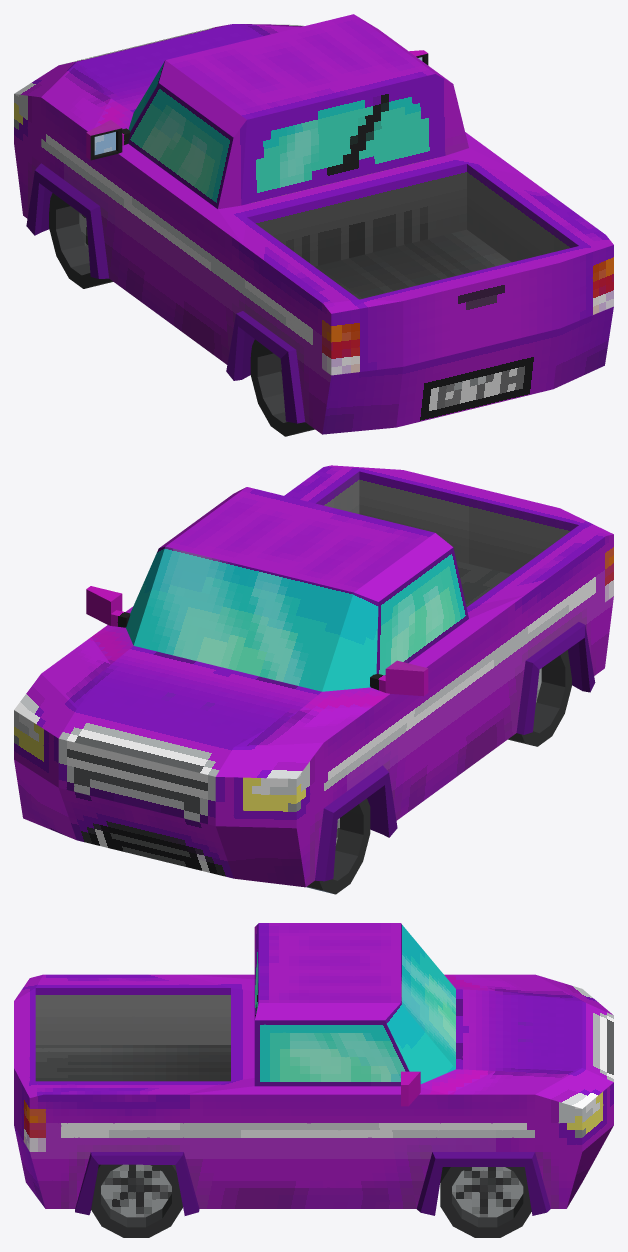
Rendered from truck_long.glb.
The picture shows the model from 3 angles, top to bottom: view 1: azimuth 30°, elevation 25°; view 2: azimuth 150°, elevation 25°; view 3: azimuth 270°, elevation 25°; orthographic projection. The views are drawn at different scales.
Parts seen in each view (by area): view 1: bodyframe, circle (×2), mirror_left; view 2: bodyframe, circle (×2), mirror_left, mirror_right; view 3: bodyframe, circle (×2), mirror_right.
Part boxes in pixels (bbox=[...]): bodyframe: bbox=[14, 14, 613, 434]; circle (×2): bbox=[49, 193, 314, 436]; mirror_left: bbox=[86, 120, 130, 160]; bodyframe: bbox=[14, 465, 613, 887]; circle (×2): bbox=[306, 650, 571, 894]; mirror_left: bbox=[370, 660, 428, 696]; mirror_right: bbox=[86, 586, 130, 627]; bodyframe: bbox=[14, 923, 613, 1215]; circle (×2): bbox=[91, 1164, 531, 1237]; mirror_right: bbox=[401, 1071, 420, 1106].
Bounding box in the file's own units: 1.34 × 0.9531 × 2.38.
Materials: 1 (1 with a texture image).
